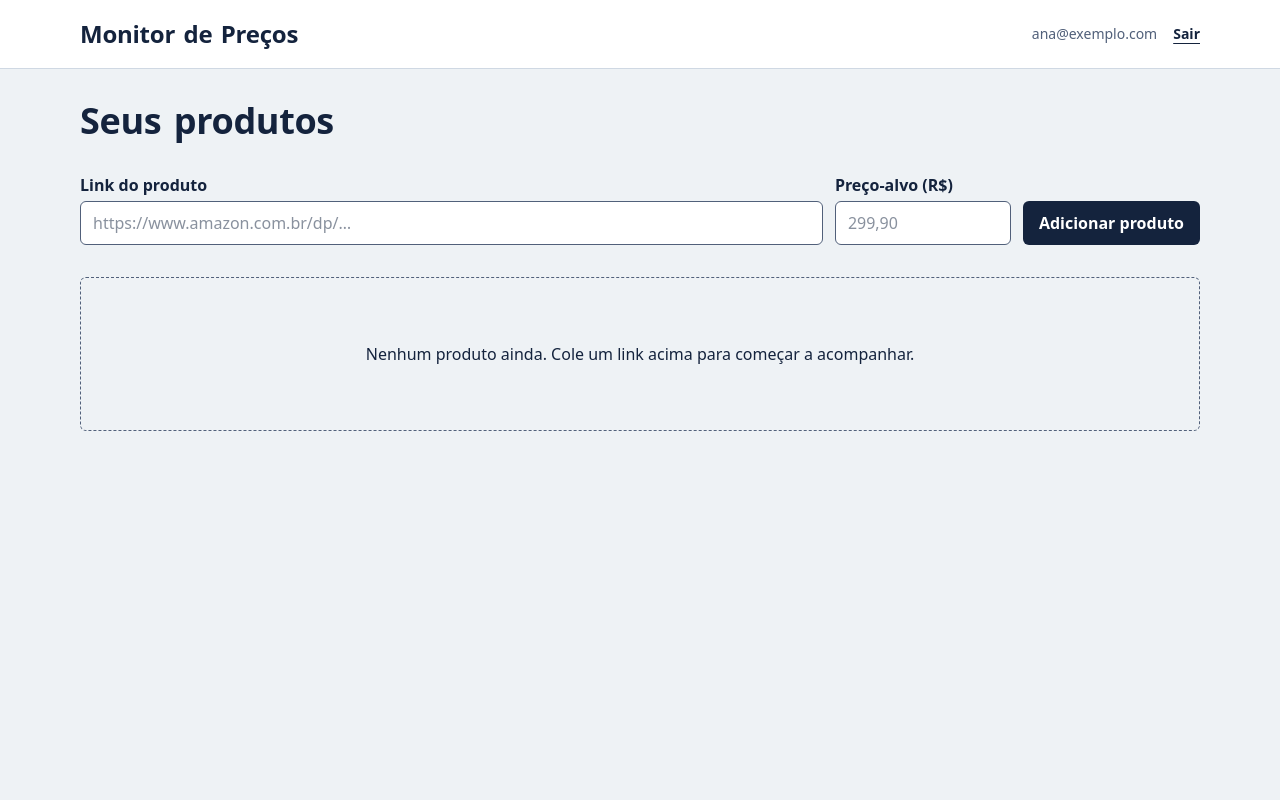
Scenario: falha da loja permite repetir sem redigitar
Check: the text "Nenhum produto ainda" is shown, box left=366, top=343, right=914, bottom=365
In the field labelled "Link do produto": (451, 223) left=80, top=201, right=823, bottom=245, type "https://www.amazon.com.br/dp/1"
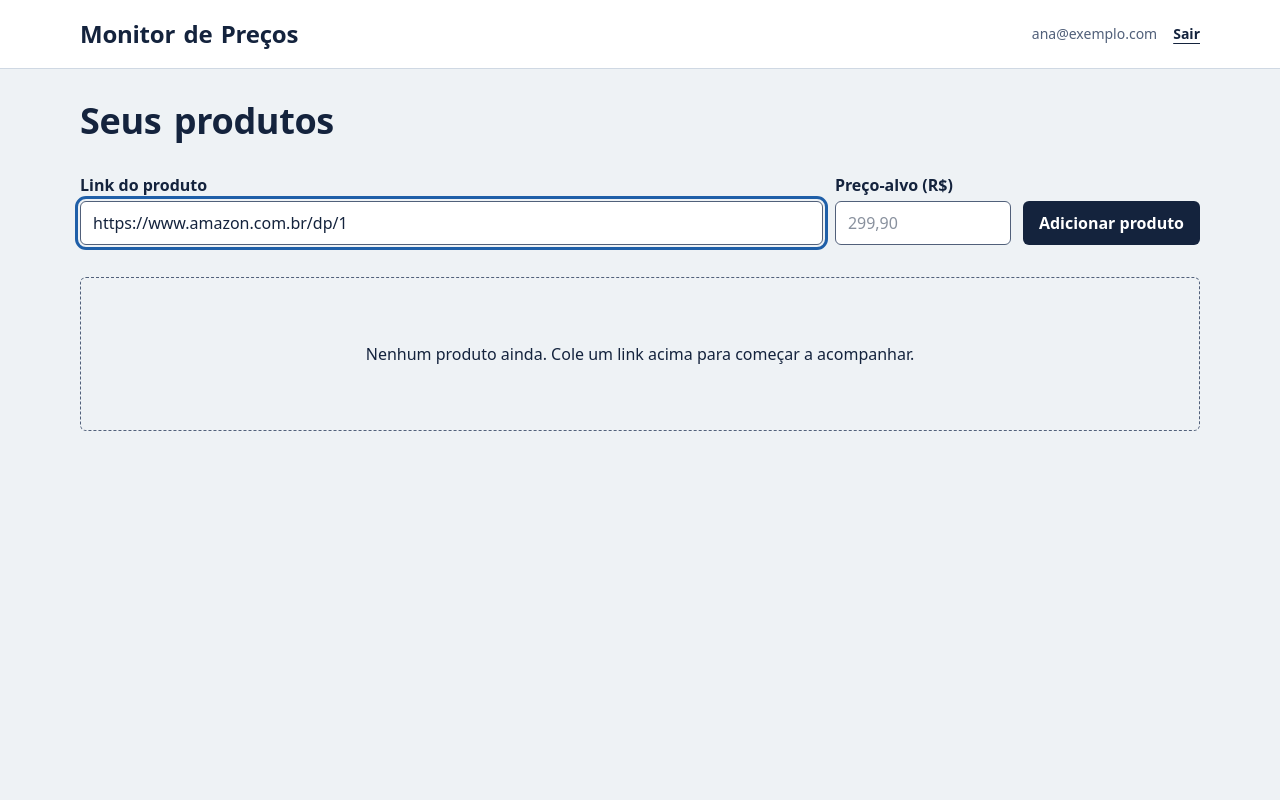
In the field labelled "Preço-alvo (R$)": (923, 223) left=835, top=201, right=1011, bottom=245, type "90,00"
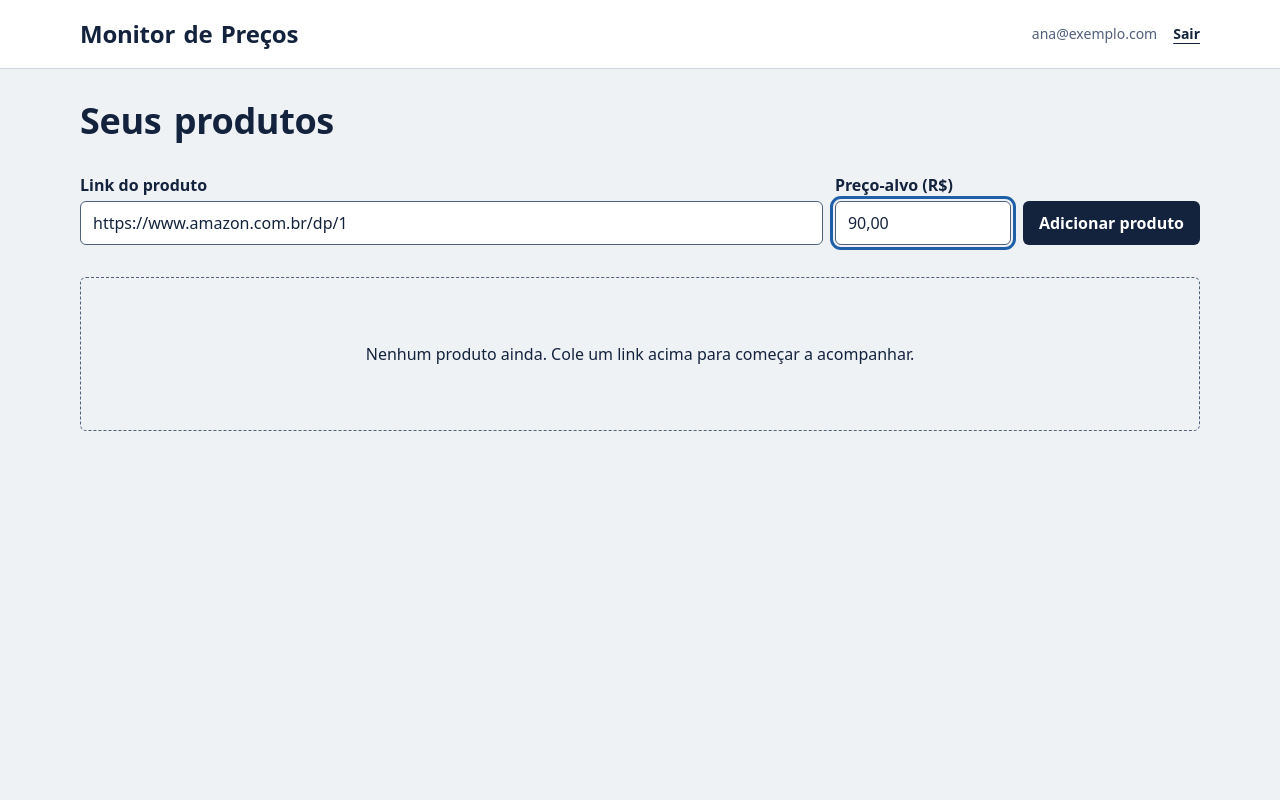
Click the button "Adicionar produto": (1111, 223) left=1023, top=201, right=1200, bottom=245
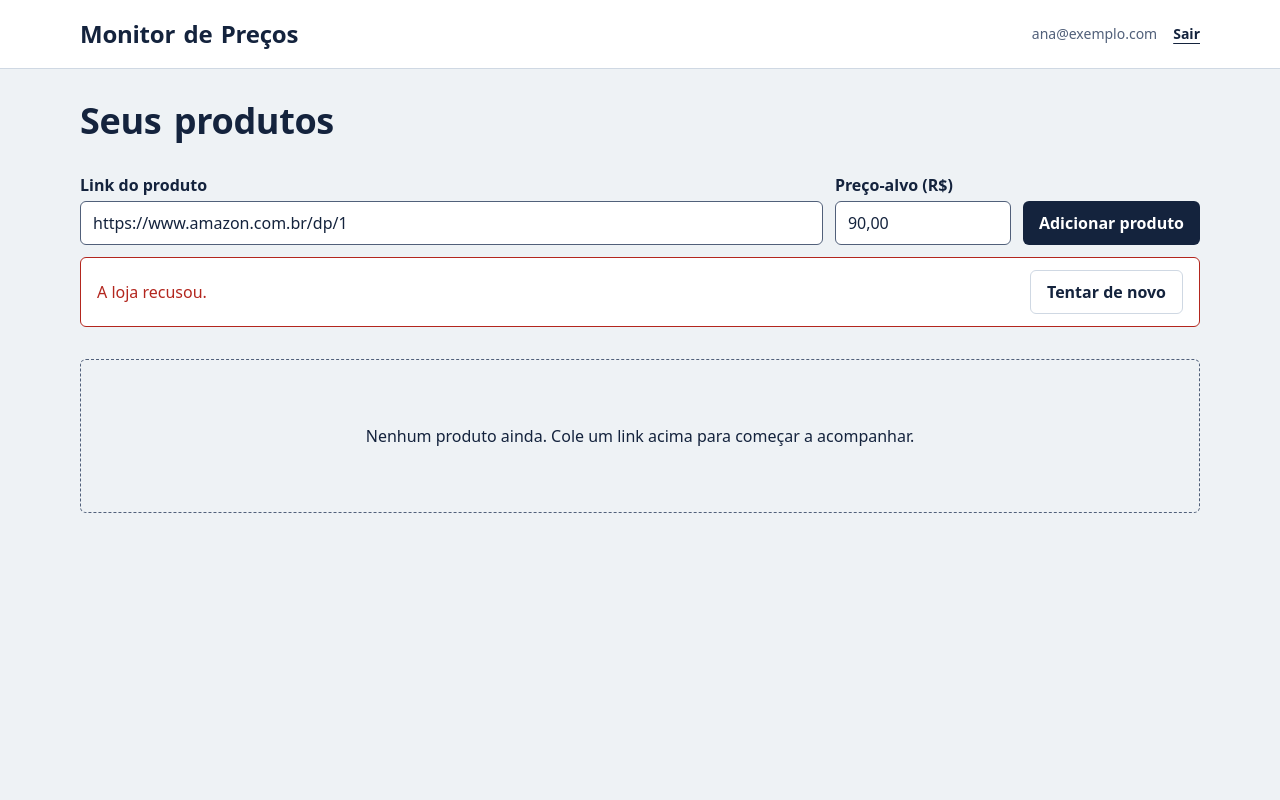
Check: the message shows "A loja recusou.", box left=97, top=281, right=207, bottom=303
Click the button "Tentar de novo": (1106, 292) left=1030, top=270, right=1183, bottom=314
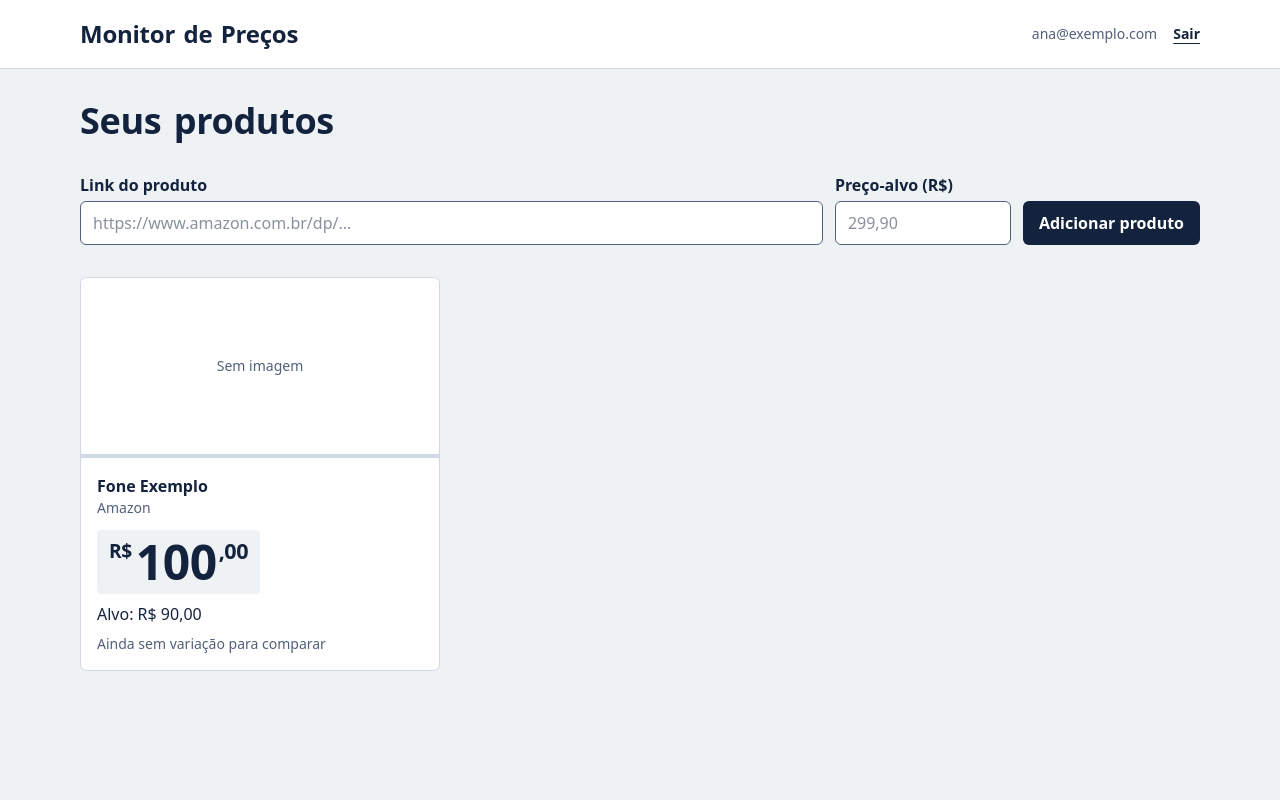
Check: the link "Fone Exemplo" is shown, box left=97, top=475, right=208, bottom=497
